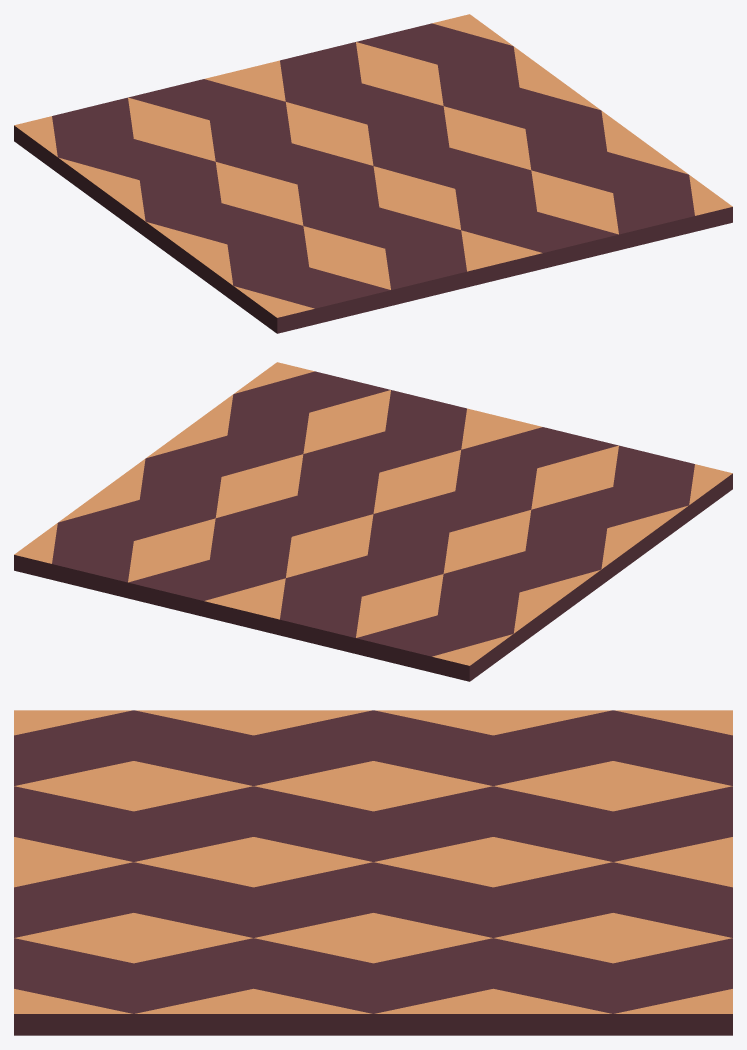
Rendered from SM_Pavement_Mosaic_3x3m_Cube_Empire.fbx.
3 renders of one model, top to bottom at view 1: azimuth 30°, elevation 25°; view 2: azimuth 150°, elevation 25°; view 3: azimuth 270°, elevation 25°, orthographic. The views are drawn at different scales.
Parts seen in each view (by area): view 1: SM_Pavement_Mosaic_3x3m_Cube_Empire; view 2: SM_Pavement_Mosaic_3x3m_Cube_Empire; view 3: SM_Pavement_Mosaic_3x3m_Cube_Empire.
Part boxes in pixels (x1,y1,x2,y2): SM_Pavement_Mosaic_3x3m_Cube_Empire: [14, 14, 732, 333]; SM_Pavement_Mosaic_3x3m_Cube_Empire: [14, 362, 732, 681]; SM_Pavement_Mosaic_3x3m_Cube_Empire: [14, 710, 732, 1035].
Size of the model in its own units: 3 by 0.1 by 3.
